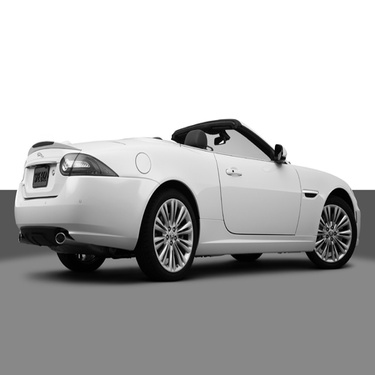car: (4, 102, 361, 286)
